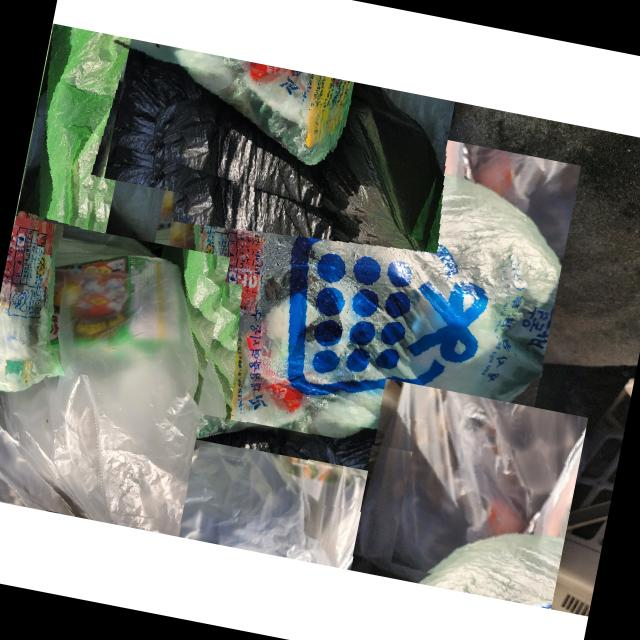general_trashbag: (175, 120, 560, 449), (20, 24, 141, 374)
other_trashbag: (0, 225, 198, 534), (109, 59, 439, 236), (65, 439, 411, 569), (360, 382, 587, 574)
